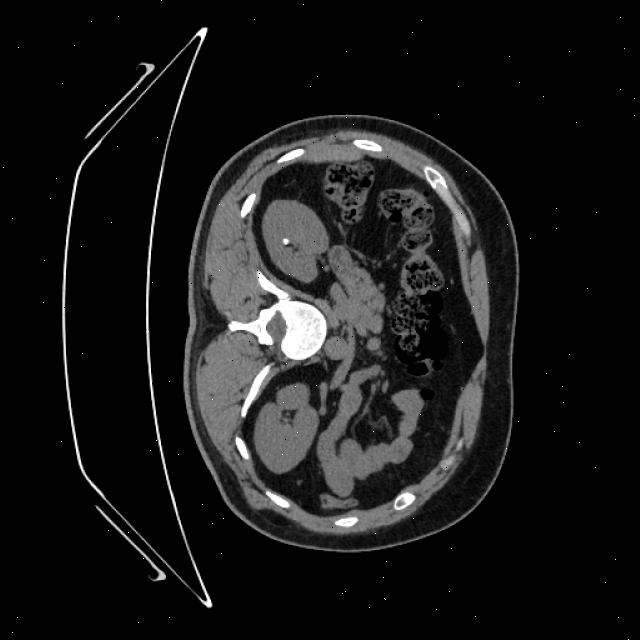kidneystone: (282, 238, 289, 246)
